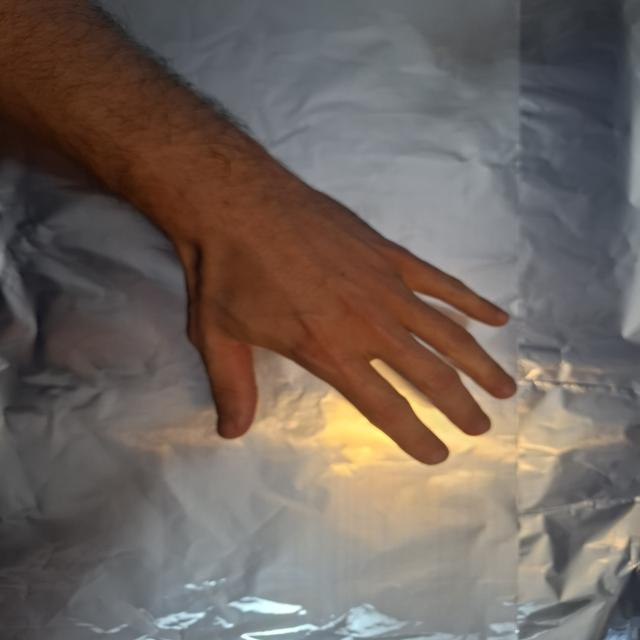glove_off: (180, 192, 520, 471)
